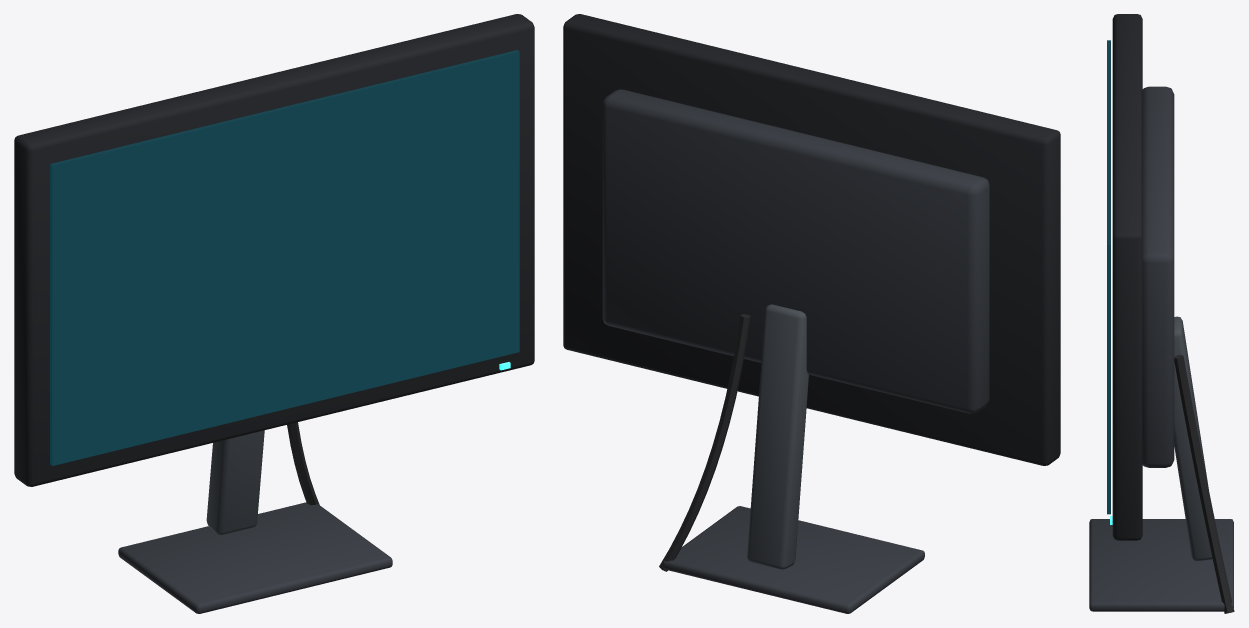
Rendered from monitor.glb.
3 views of the same model, side by side, from view 1: azimuth 30°, elevation 25°; view 2: azimuth 150°, elevation 25°; view 3: azimuth 270°, elevation 25° (orthographic). The views are drawn at different scales.
Visible parts, largest first — view 1: Screen, Body; view 2: Body; view 3: Body, Screen.
Part boxes in pixels (x1,y1,x2,y2): Screen: (50, 50, 519, 465); Body: (14, 14, 534, 613); Body: (563, 14, 1060, 613); Body: (1089, 14, 1234, 613); Screen: (1107, 40, 1110, 514).
Size of the model in its own units: 0.62 by 0.5829 by 0.1708.
